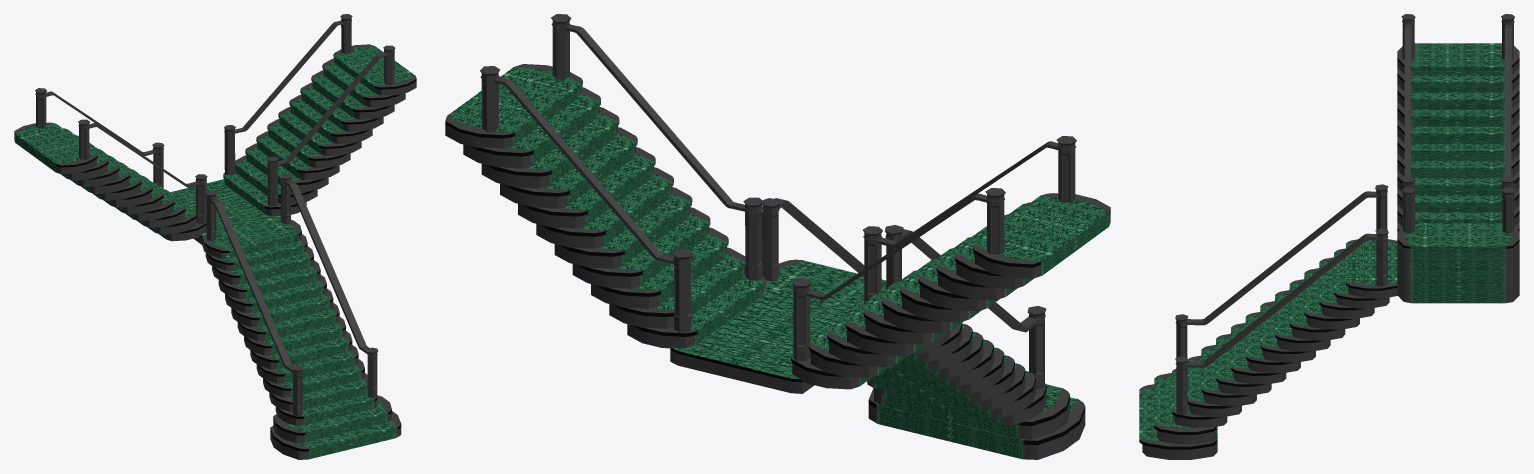
The model's file is ASSET_STAIRCASE_02.fbx.
The picture shows the model from 3 angles, left to right: view 1: azimuth 30°, elevation 25°; view 2: azimuth 150°, elevation 25°; view 3: azimuth 270°, elevation 25°; orthographic projection. The views are drawn at different scales.
Visible parts, largest first — view 1: pCube125, pCube124, pCube123, pCube100, pCube17, polySurface17, pCube127, pCube126, polySurface18; view 2: pCube124, pCube123, pCube17, polySurface17, pCube100, pCube125, polySurface18, pCube126, pCube127; view 3: pCube123, pCube125, pCube124, pCube100, polySurface18, pCube127, pCube126, pCube17, polySurface17.
Part boxes in pixels (bbox=[...]): pCube125: bbox=[205, 234, 367, 411]; pCube124: bbox=[223, 44, 416, 216]; pCube123: bbox=[14, 122, 206, 241]; pCube100: bbox=[270, 394, 401, 459]; pCube17: bbox=[170, 179, 301, 258]; polySurface17: bbox=[224, 14, 395, 206]; pCube127: bbox=[280, 174, 377, 397]; pCube126: bbox=[206, 190, 303, 416]; polySurface18: bbox=[35, 88, 207, 224]; pCube124: bbox=[445, 64, 764, 348]; pCube123: bbox=[791, 193, 1110, 389]; pCube17: bbox=[670, 259, 886, 393]; polySurface17: bbox=[480, 14, 763, 332]; pCube100: bbox=[868, 383, 1085, 459]; pCube125: bbox=[867, 323, 1035, 417]; polySurface18: bbox=[791, 136, 1076, 361]; pCube126: bbox=[885, 225, 1046, 389]; pCube127: bbox=[762, 198, 864, 280]; pCube123: bbox=[1397, 43, 1519, 231]; pCube125: bbox=[1187, 248, 1389, 417]; pCube124: bbox=[1397, 223, 1519, 303]; pCube100: bbox=[1139, 369, 1227, 459]; polySurface18: bbox=[1401, 14, 1514, 226]; pCube127: bbox=[1175, 228, 1388, 414]; pCube126: bbox=[1175, 184, 1388, 357]; pCube17: bbox=[1346, 239, 1397, 298]; polySurface17: bbox=[1402, 187, 1515, 233].
Size of the model in its own units: 242 by 180 by 191.
10 materials, 9 textured.
